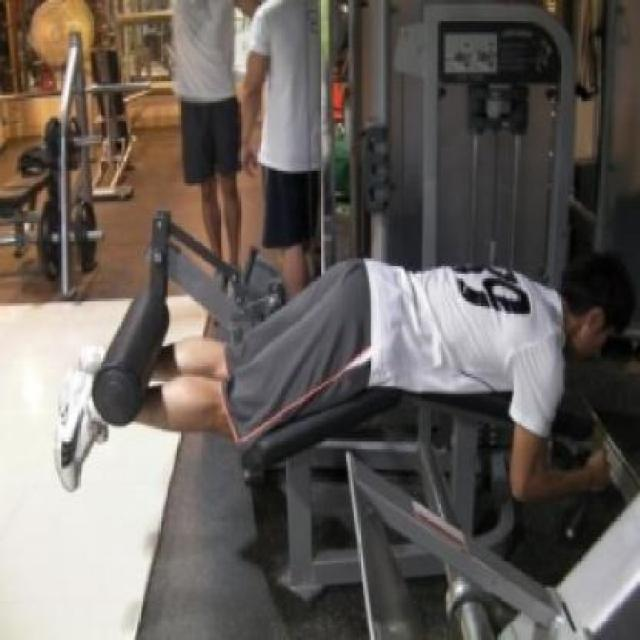reg curl machine: (47, 4, 640, 607)
